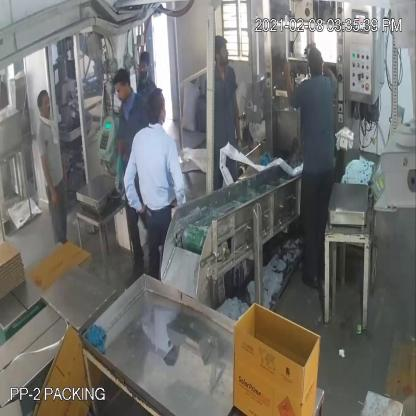glove: (105, 146, 125, 201)
no_glove: (166, 135, 189, 220), (32, 135, 56, 212), (119, 152, 144, 220), (229, 89, 245, 161), (282, 56, 297, 113), (320, 55, 336, 92)
